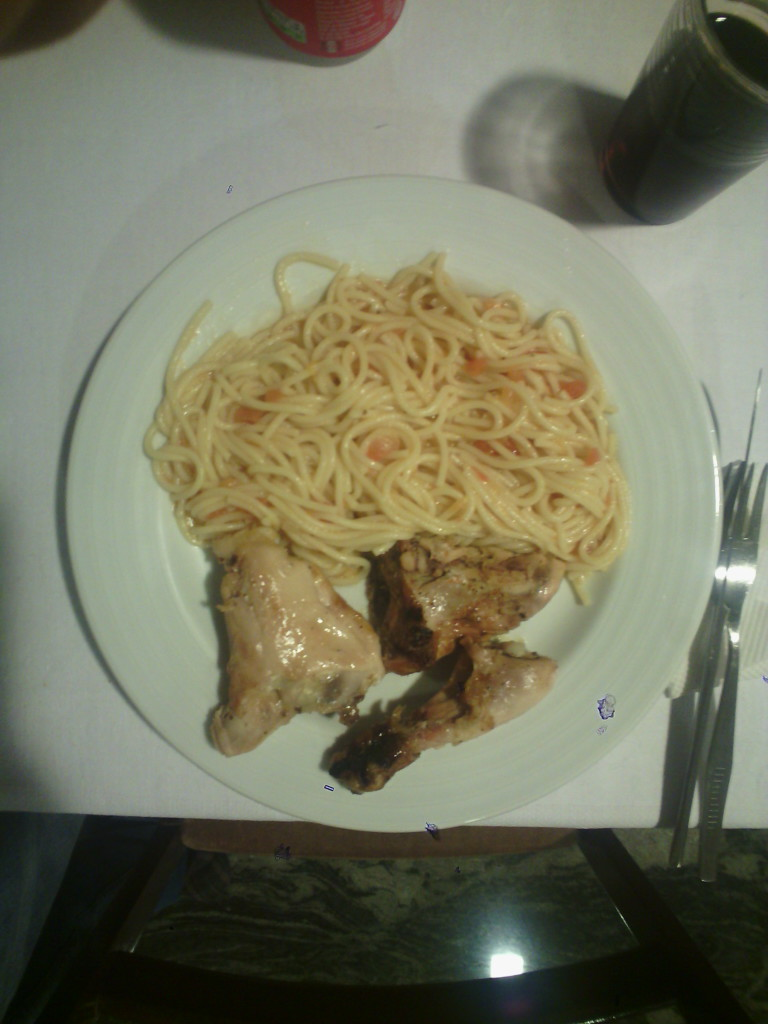81-100: (64, 175, 722, 833)
